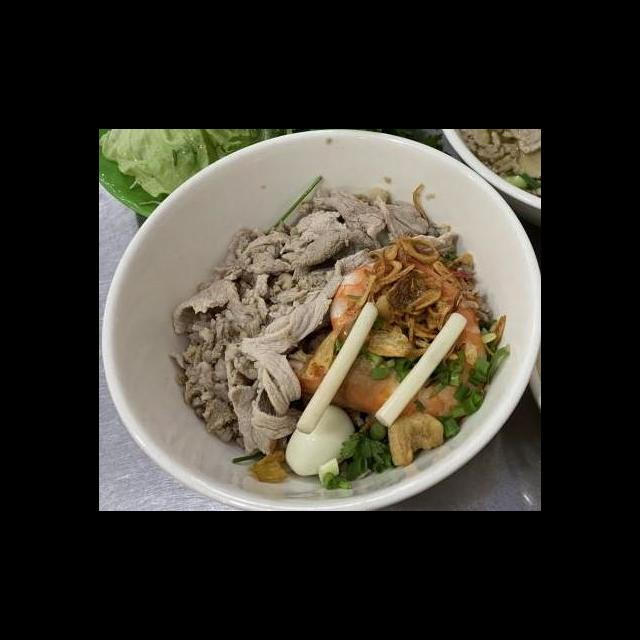thit bam: (166, 307, 248, 449)
thit heo: (235, 244, 373, 419), (222, 343, 307, 459), (244, 207, 380, 277), (162, 271, 244, 336), (312, 183, 387, 242), (359, 231, 464, 273), (374, 194, 439, 245)
tom: (273, 256, 489, 426), (324, 246, 477, 361)
trung: (283, 400, 361, 479)
